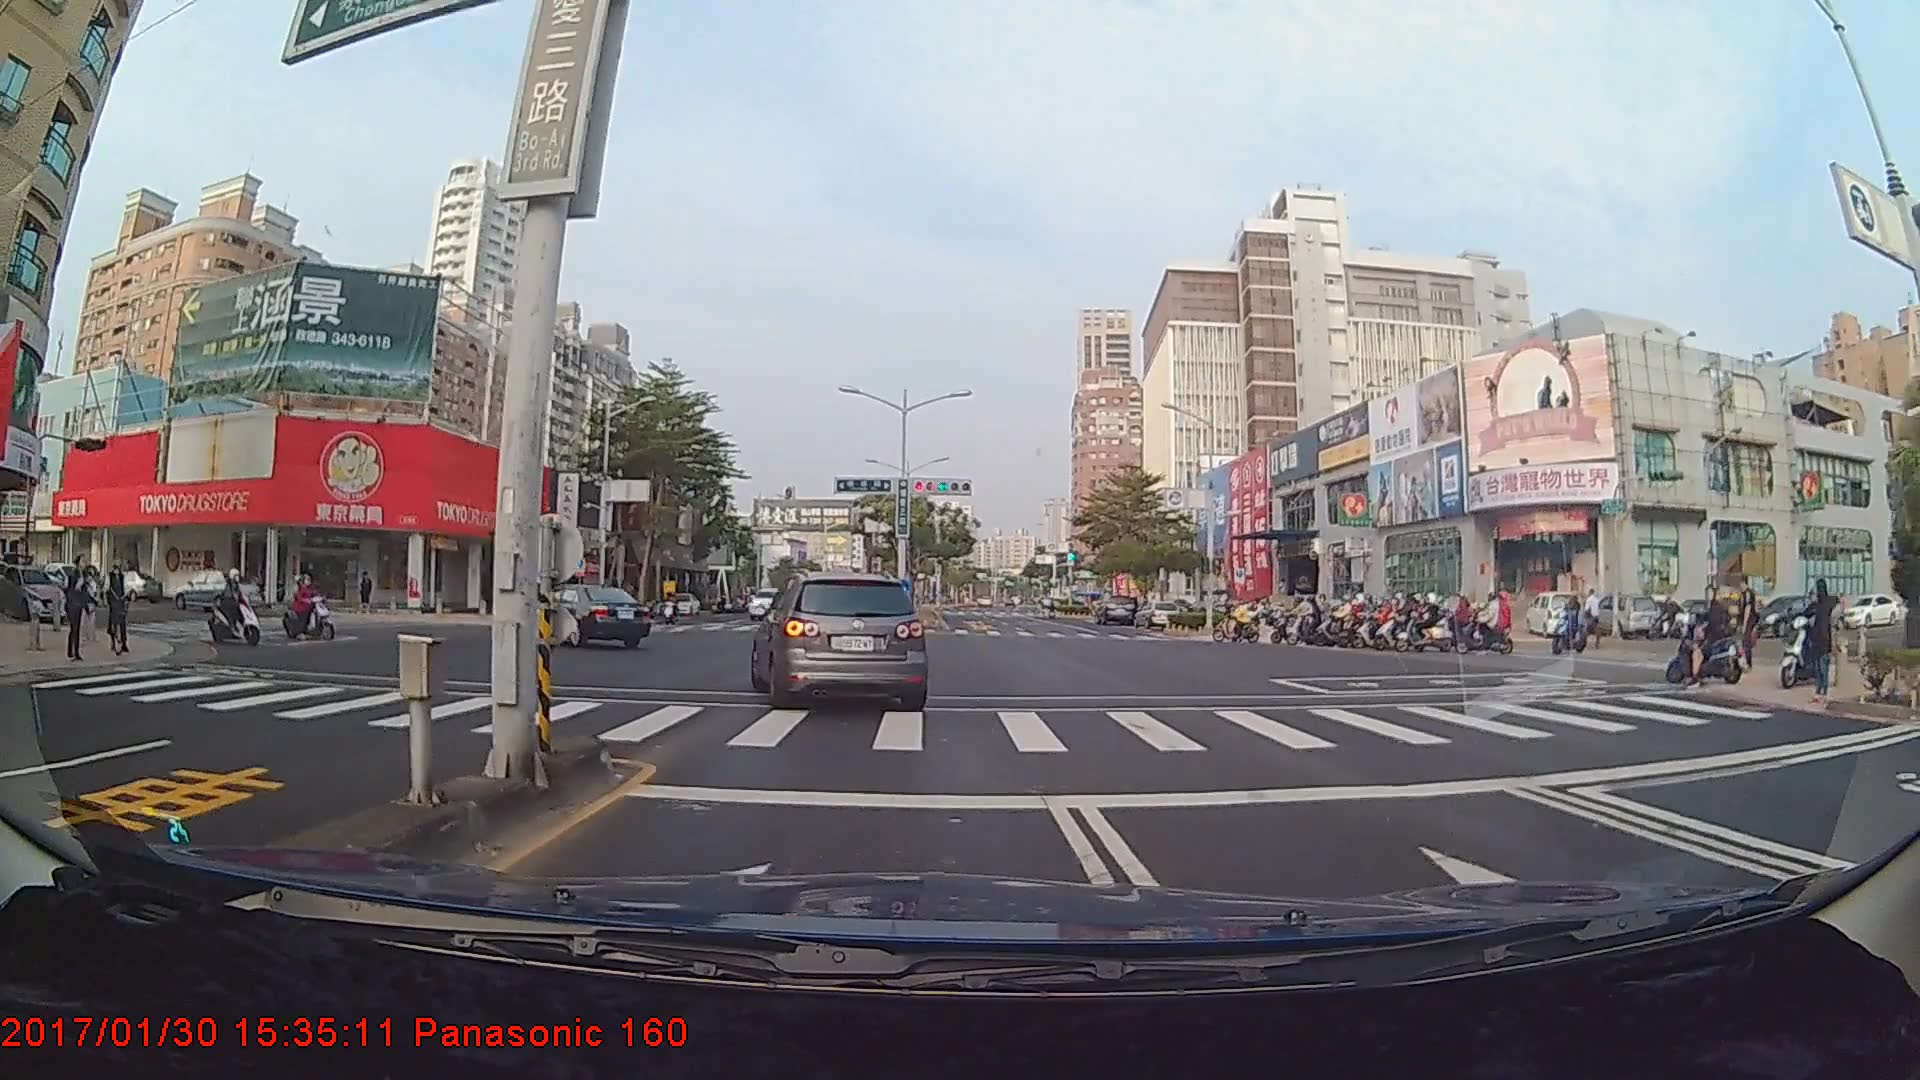pedestrian: (1807, 573, 1845, 706), (62, 555, 92, 665), (1735, 573, 1763, 674)
rider: (1668, 583, 1757, 688), (1777, 583, 1845, 690), (205, 566, 275, 651), (1456, 587, 1519, 660), (280, 576, 342, 642), (98, 559, 134, 662), (1414, 592, 1461, 652), (1268, 593, 1324, 644), (1549, 595, 1597, 653), (1384, 593, 1434, 645), (1213, 599, 1269, 643), (1337, 597, 1383, 648), (1366, 600, 1409, 646)
vehicle: (748, 570, 931, 707), (528, 585, 650, 650), (171, 569, 258, 611), (1093, 594, 1136, 627)
